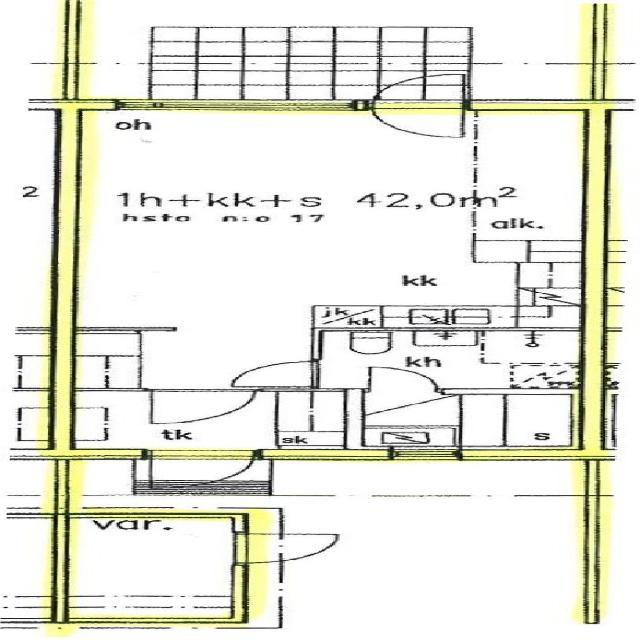door: (62, 511, 252, 626), (314, 384, 598, 456), (329, 337, 545, 396), (357, 72, 480, 143), (136, 447, 264, 489), (133, 386, 259, 428), (218, 356, 336, 391), (345, 363, 452, 399), (232, 531, 349, 562)
window: (95, 96, 360, 118), (384, 447, 465, 462)
zone: (70, 103, 604, 333), (59, 512, 248, 624), (312, 328, 588, 393), (336, 389, 596, 457)
